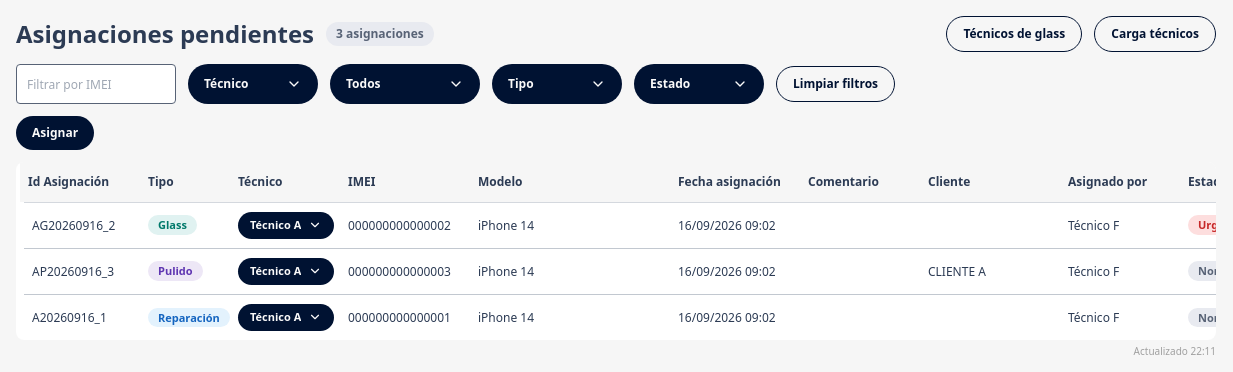
it: AsignacionesPage › Limpiar filtros devuelve todas las filas
Expected: the text "A20260916_1" is shown, [20, 294, 140, 340]
Type "000000000000001" into the field labelled "Filtrar por IMEI" at (96, 84), box [16, 64, 176, 104]
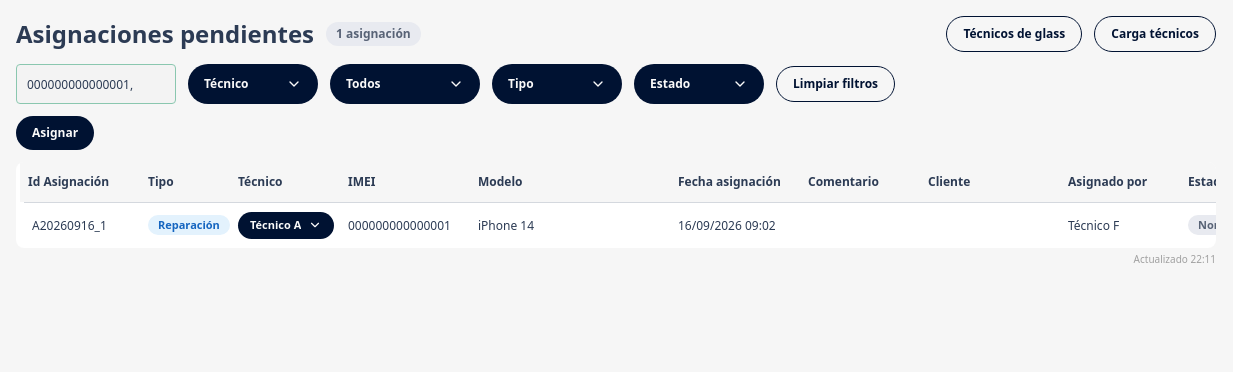
Expected: the text "1 asignación" is shown, [326, 22, 421, 46]
Click the button "Limpiar filtros" at (836, 84), box [776, 66, 895, 102]
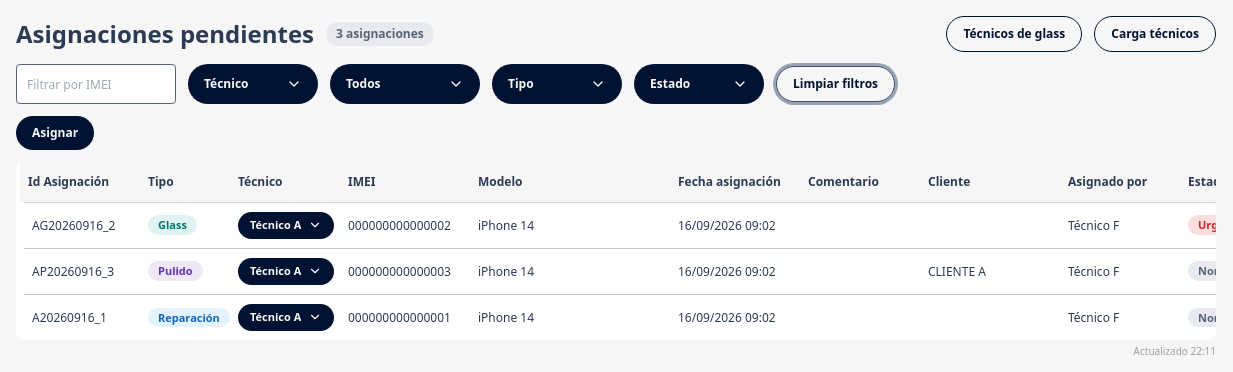
Expected: the text "3 asignaciones" is shown, [326, 22, 434, 46]
